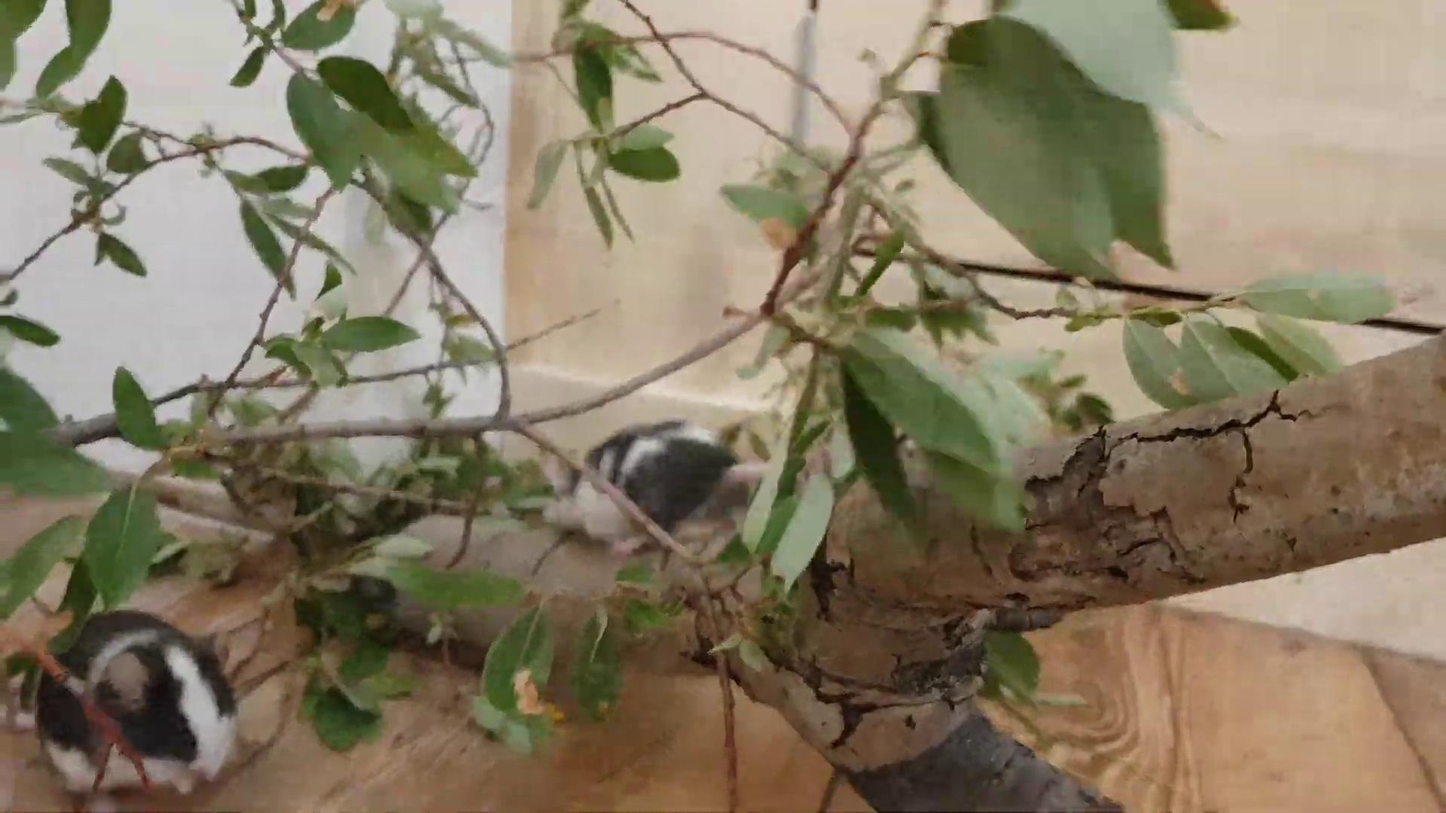rat: (24, 611, 240, 813), (544, 420, 743, 551)
